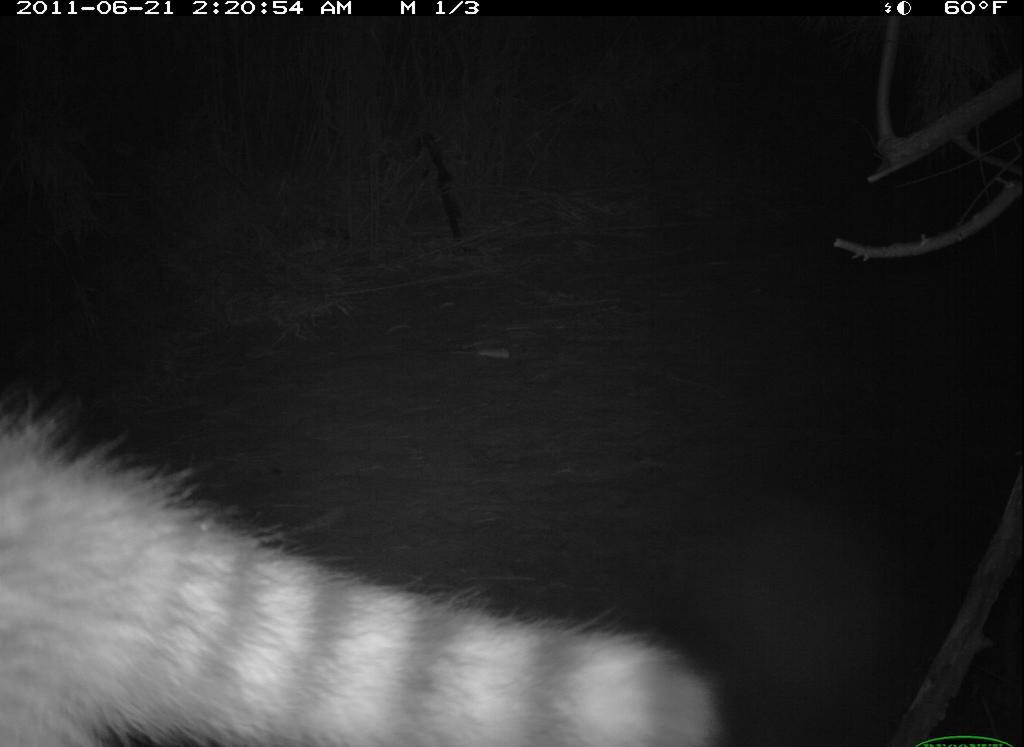raccoon: (4, 393, 744, 743)
